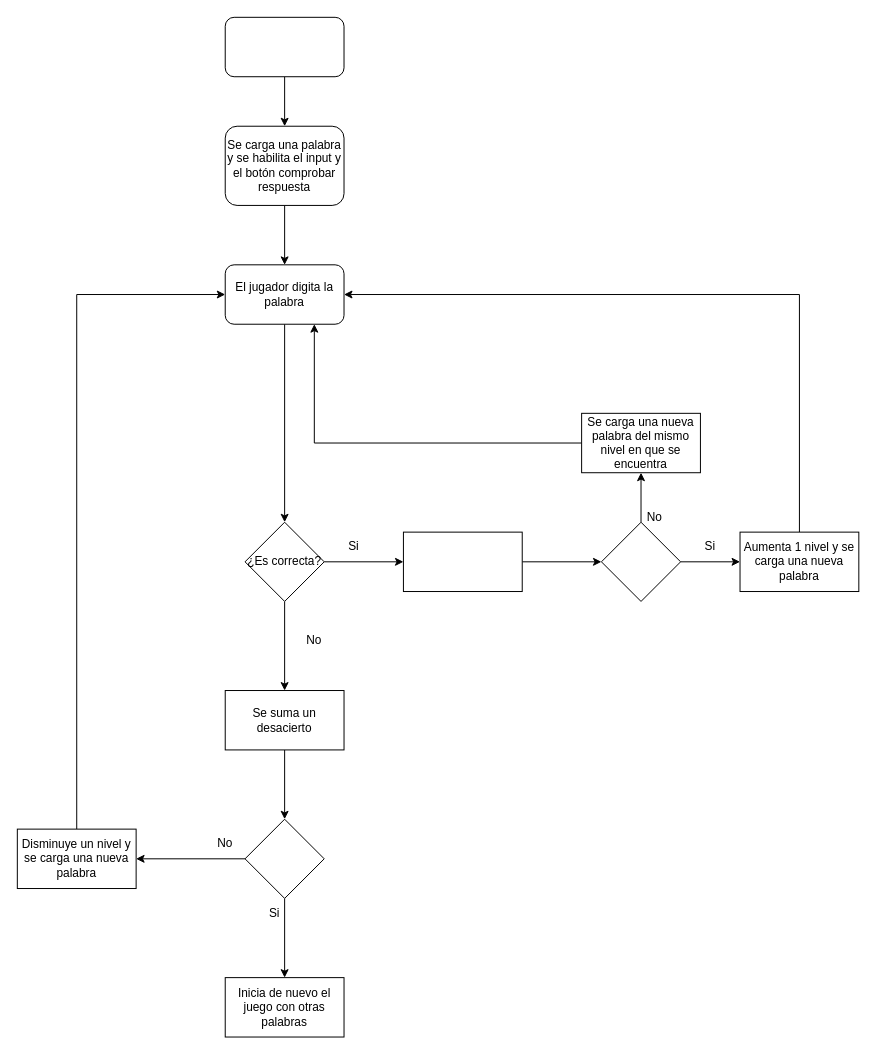
Some shapes in this 876 by 1054 pixel diagram are drawn without their labels. Here are the shapes that lost their labels. From the top down, the box of each, then its label:
(224, 16, 344, 77): Se presiona botón iniciar
(402, 531, 522, 592): Se suma un acierto
(600, 521, 681, 601): ¿Lleva 3 aciertos en línea?
(244, 818, 324, 898): ¿Lleva 3 desaciertos?
